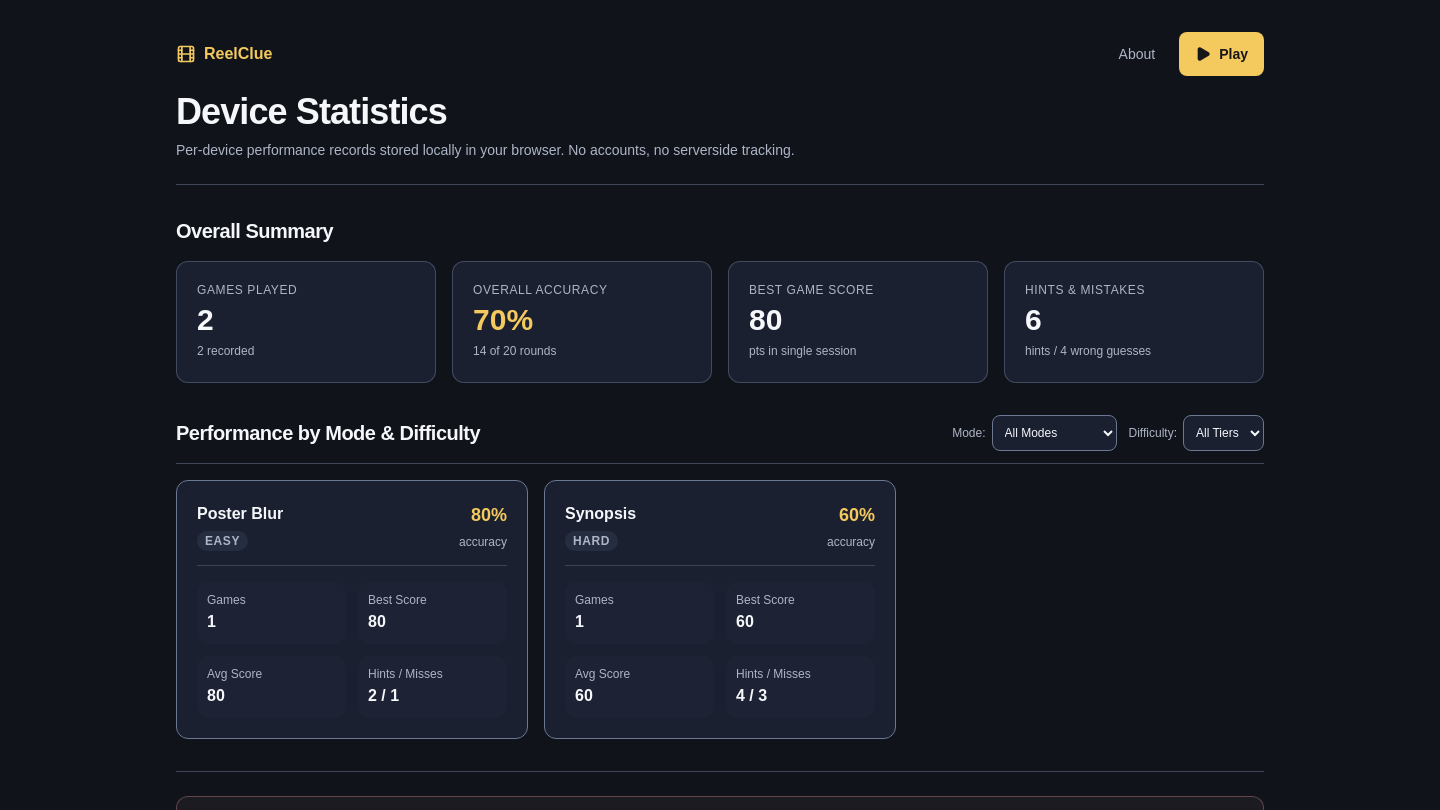
Test case: StatsView component › filters breakdown by selected mode and difficulty
This screenshot has width=1440, height=810.
# Filter to only Poster
Select "Poster Blur" in the dropdown labelled "Mode:" at {"x": 1054, "y": 433}, box [992,415,1116,451]
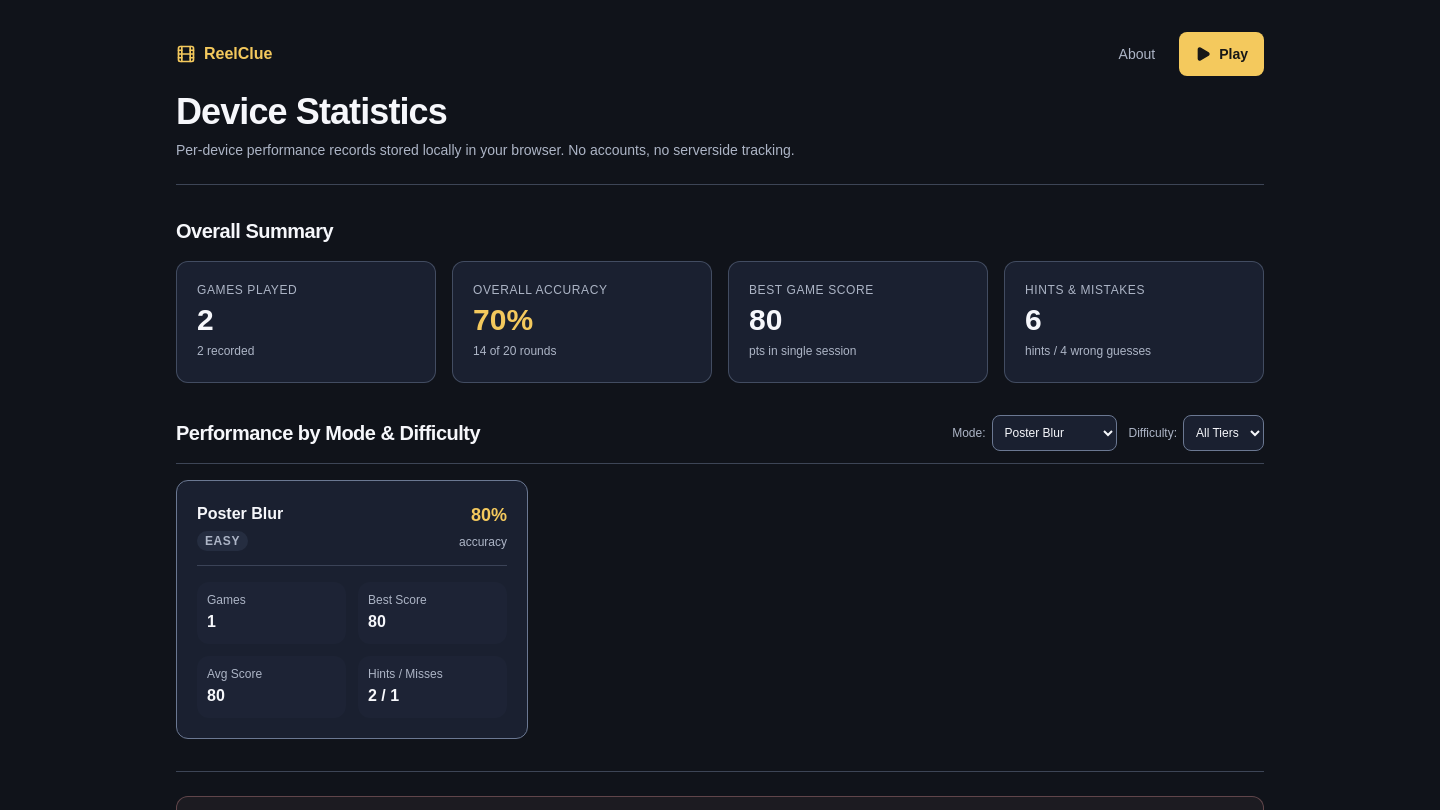
Expected: the heading "Poster Blur" is shown, [197,502,283,526]
Result: the heading "Synopsis" is gone
# Filter to Hard tier only (none for poster)
Select "Hard" in the dropdown labelled "Difficulty:" at {"x": 1224, "y": 433}, box [1183,415,1264,451]
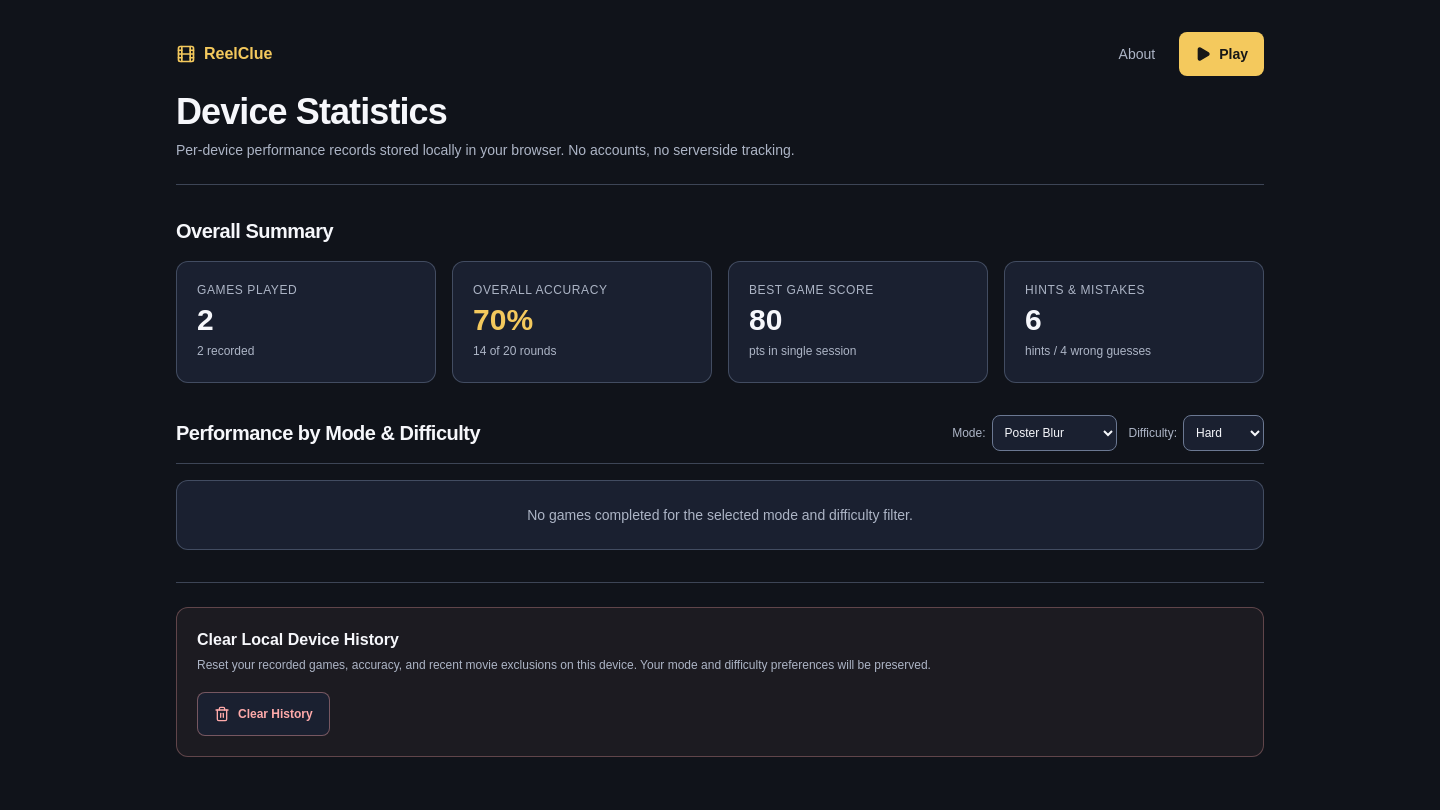
Result: the text "No games completed for the selected mode and difficulty filter" is shown at [527,507,913,523]
